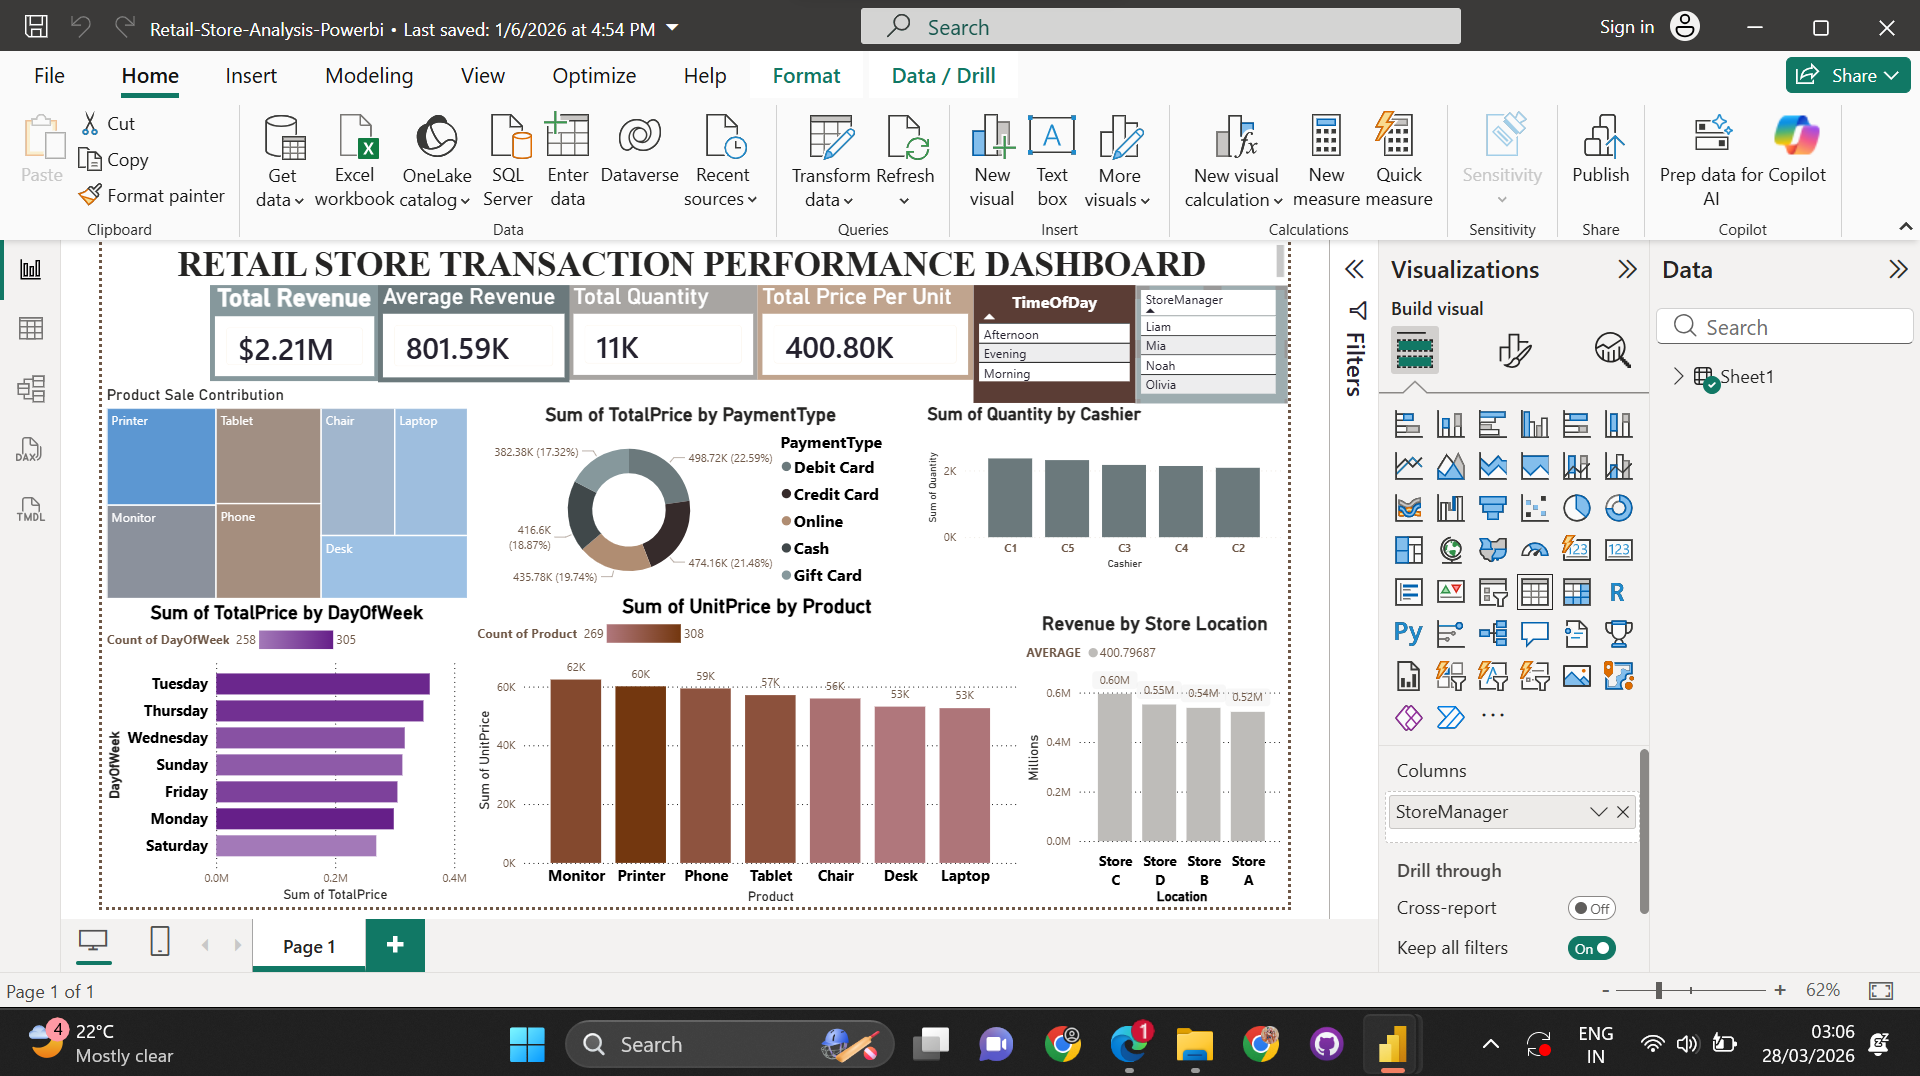

The page's visual inventory and layout, read from the dashboard file:
{"tool":"powerbi","page":{"name":"Page 1","canvas":[1280,720],"ordinal":0},"visuals":[{"type":"shape","title":"   Retail Store Transaction Performance Dashboard","box":[0,0,1280.8,63.1],"z":0},{"type":"cardVisual","title":"Total Revenue","fields":{"Data":["Sum(Sheet1.TotalPrice)"]},"box":[117.4,46.5,182.2,105.2],"z":1000},{"type":"cardVisual","title":"Total Quantity","fields":{"Data":["Sum(Sheet1.Quantity)"]},"box":[503.8,47.7,204.2,103.9],"z":2000},{"type":"cardVisual","title":"Total Price Per Unit","fields":{"Data":["Sum(Sheet1.UnitPrice)","select"]},"box":[708,47.7,232.3,103.9],"z":3000},{"type":"treemap","title":"Product Sale Contribution","fields":{"Group":["Sheet1.Product"],"Values":["CountNonNull(Sheet1.TimeOfDay)"]},"box":[0,156.4,399.3,234.6],"z":4000},{"type":"cardVisual","title":"Average Revenue","fields":{"Data":["Sum(Sheet1.AVERAGE)"]},"box":[297.1,46.5,206.7,106.4],"z":5000},{"type":"clusteredColumnChart","fields":{"Category":["Sheet1.Product"],"Y":["Sum(Sheet1.UnitPrice)"]},"box":[399.3,381.5,592.8,338.9],"z":6000},{"type":"tableEx","fields":{"Values":["Sheet1.StoreManager"]},"box":[1115.2,48.9,165.1,137],"z":7000},{"type":"tableEx","fields":{"Values":["Sheet1.TimeOfDay"]},"box":[940.4,48.9,174.9,127.2],"z":8000},{"type":"lineStackedColumnComboChart","title":"Revenue by Store Location","fields":{"Category":["Sheet1.Location"],"Series":["Sheet1.AVERAGE"],"Y":["Sum(Sheet1.TotalPrice)"]},"box":[992,401,288,319],"z":9000},{"type":"lineStackedColumnComboChart","fields":{"Category":["Sheet1.Cashier"],"Y":["Sum(Sheet1.Quantity)"]},"box":[885.7,176.5,395.1,183],"z":10000},{"type":"textbox","box":[0,0,1280.8,48.6],"z":11000},{"type":"donutChart","fields":{"Category":["Sheet1.PaymentType"],"Y":["Sum(Sheet1.TotalPrice)"]},"box":[399.9,176.5,471.2,205.6],"z":12000},{"type":"clusteredBarChart","fields":{"Category":["Sheet1.DayOfWeek"],"Y":["Sum(Sheet1.TotalPrice)"]},"box":[0,391,399,329],"z":13000}]}

Visuals, with their boxes on the page's 1280x720 design canvas (x1, y1, x2, y2). These are canvas units, not pixel positions in the 1920x1076 screenshot, which may show the page scaled, cropped or inside an application window:
"   Retail Store Transaction Performance Dashboard" shape: bbox(0, 0, 1281, 63)
"Total Revenue" cardVisual: bbox(117, 46, 300, 152)
"Total Quantity" cardVisual: bbox(504, 48, 708, 152)
"Total Price Per Unit" cardVisual: bbox(708, 48, 940, 152)
"Product Sale Contribution" treemap: bbox(0, 156, 399, 391)
"Average Revenue" cardVisual: bbox(297, 46, 504, 153)
clusteredColumnChart - Sheet1.Product x Sum(Sheet1.UnitPrice): bbox(399, 382, 992, 720)
tableEx - Sheet1.StoreManager: bbox(1115, 49, 1280, 186)
tableEx - Sheet1.TimeOfDay: bbox(940, 49, 1115, 176)
"Revenue by Store Location" lineStackedColumnComboChart: bbox(992, 401, 1280, 720)
lineStackedColumnComboChart - Sheet1.Cashier x Sum(Sheet1.Quantity): bbox(886, 176, 1281, 360)
textbox: bbox(0, 0, 1281, 49)
donutChart - Sheet1.PaymentType x Sum(Sheet1.TotalPrice): bbox(400, 176, 871, 382)
clusteredBarChart - Sheet1.DayOfWeek x Sum(Sheet1.TotalPrice): bbox(0, 391, 399, 720)
